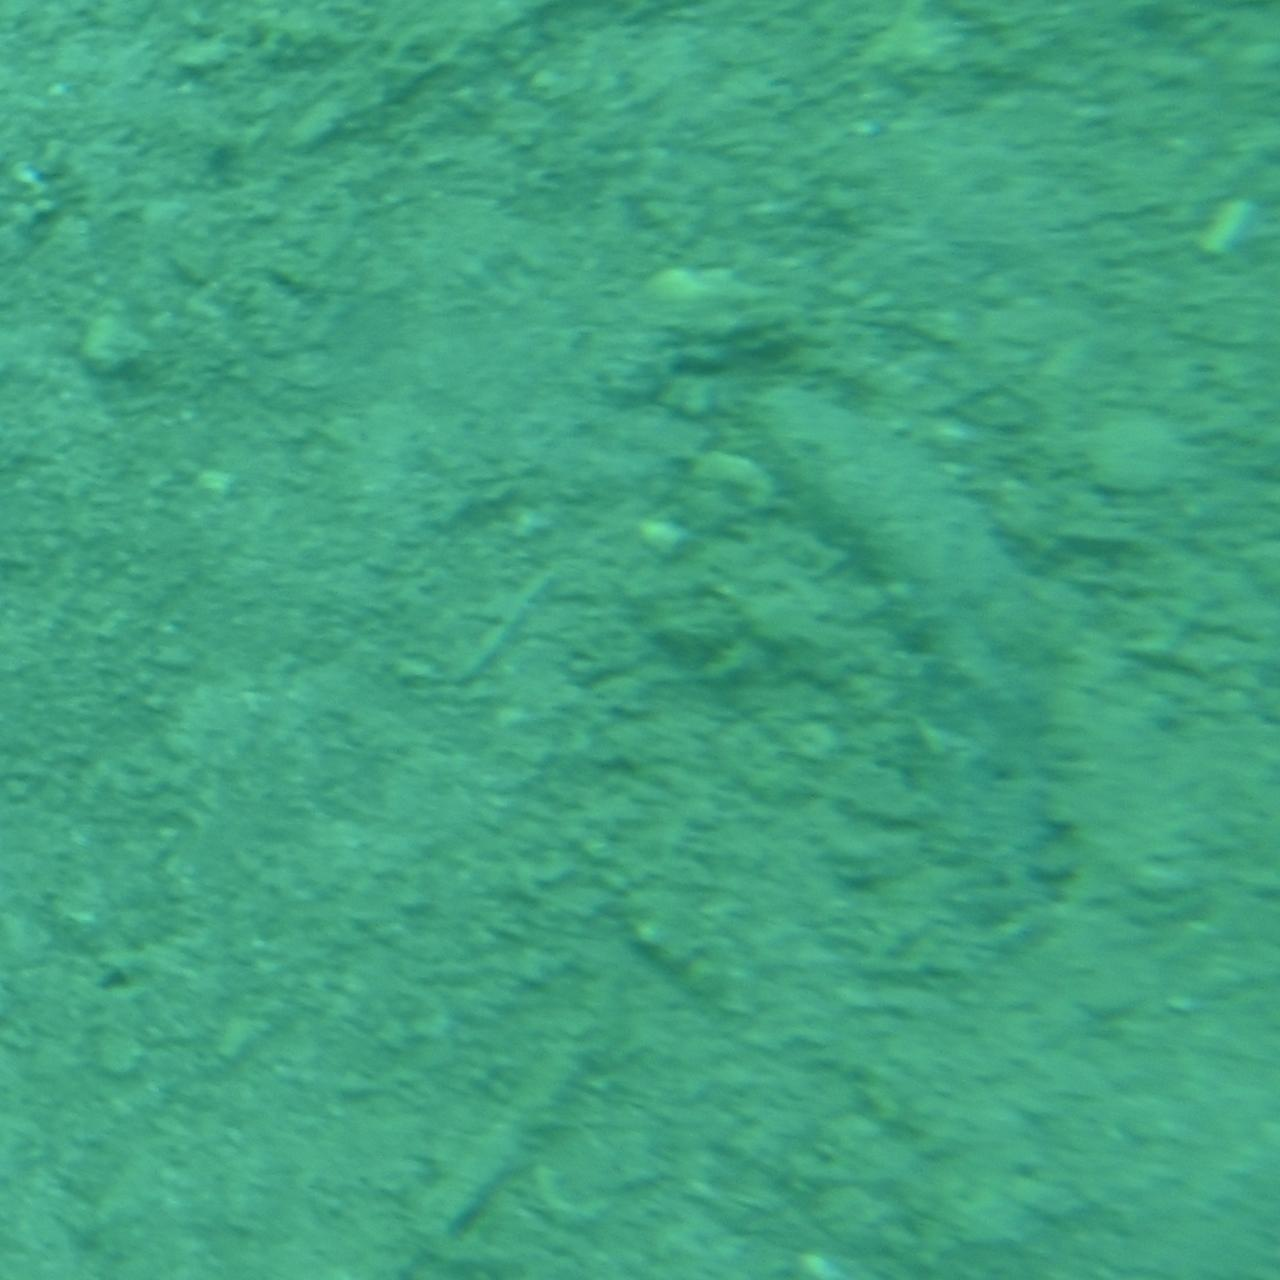Holothuria tubulosa: (738, 350, 1102, 930)
